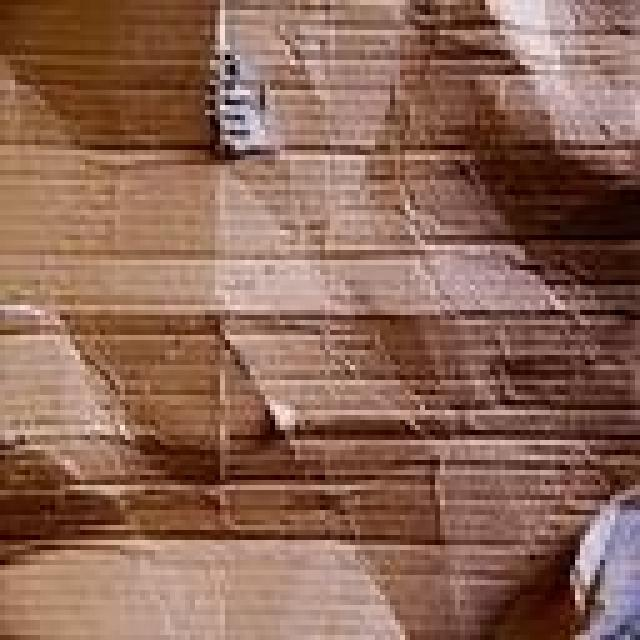cardboard: (0, 0, 635, 635)
